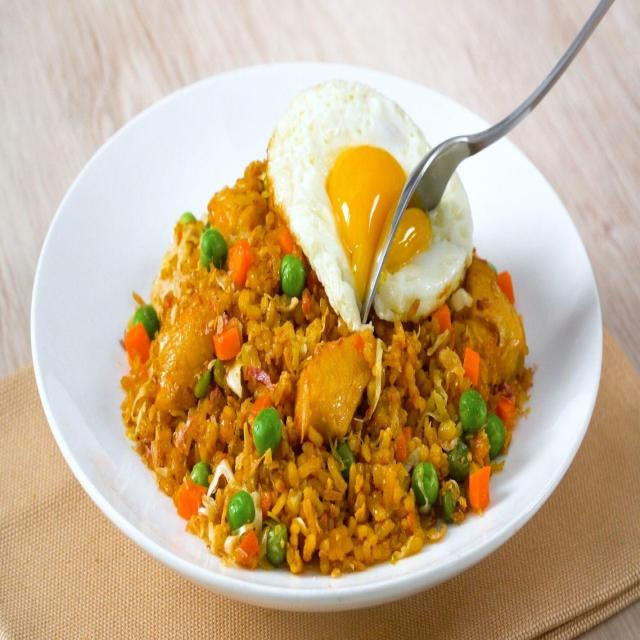Nasi Goreng: (107, 125, 534, 576)
